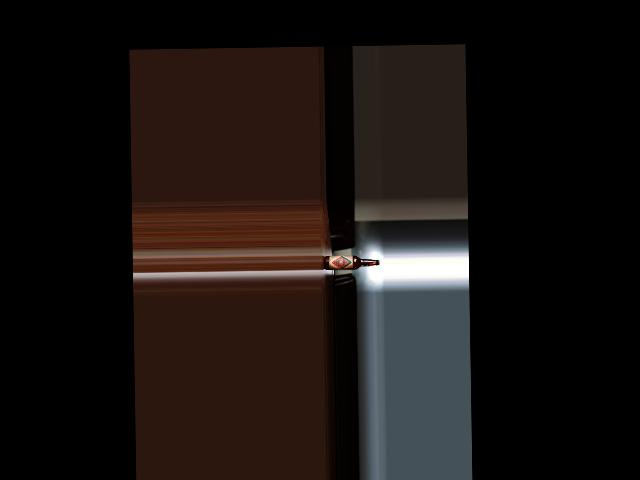beer: (323, 255, 379, 270)
